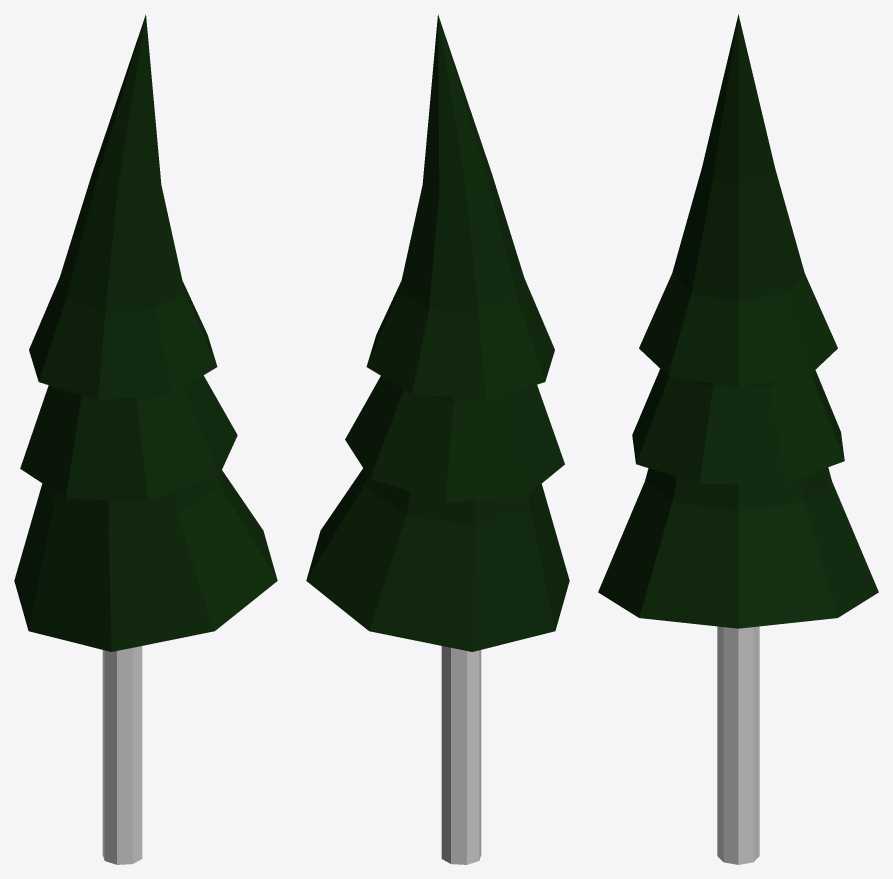
File: Pine_Tree_2.FBX
3 renders of one model, left to right at view 1: azimuth 30°, elevation 25°; view 2: azimuth 150°, elevation 25°; view 3: azimuth 270°, elevation 25°, orthographic. The views are drawn at different scales.
Parts seen in each view (by area): view 1: Top_Pine_2, Trunk_Pine_2; view 2: Top_Pine_2, Trunk_Pine_2; view 3: Top_Pine_2, Trunk_Pine_2.
Part boxes in pixels (x1,y1,x2,y2): Top_Pine_2: [14, 14, 277, 651]; Trunk_Pine_2: [102, 646, 142, 864]; Top_Pine_2: [306, 14, 569, 651]; Trunk_Pine_2: [441, 646, 481, 864]; Top_Pine_2: [598, 14, 878, 628]; Trunk_Pine_2: [717, 626, 759, 864].
Bounding box in the file's own units: 83.16 × 283 × 84.44.
